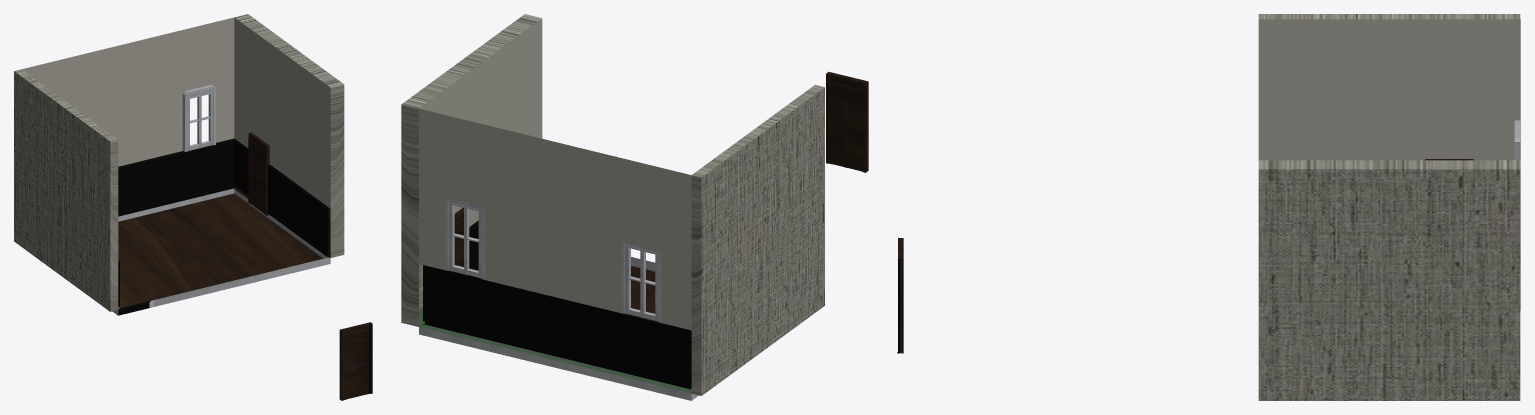
The model's file is CASA-MENU.glb.
3 views of the same model, side by side, from view 1: azimuth 30°, elevation 25°; view 2: azimuth 150°, elevation 25°; view 3: azimuth 270°, elevation 25° (orthographic). The views are drawn at different scales.
Visible parts, largest first — view 1: Cube, Cube.001, janela, Cube.003; view 2: Cube, Cube.001, janela, janela.001, Cube.003; view 3: Cube, Cube.001.
Boxes of the visible parts, x1,y1,x2,y2 form: Cube: (14, 14, 344, 315); Cube.001: (339, 322, 372, 400); janela: (182, 84, 215, 151); Cube.003: (248, 132, 269, 215); Cube: (401, 14, 824, 400); Cube.001: (826, 71, 868, 172); janela: (445, 198, 485, 279); janela.001: (621, 242, 661, 322); Cube.003: (448, 207, 467, 275); Cube: (1258, 14, 1520, 400); Cube.001: (897, 238, 903, 353).
Bounding box in the file's own units: 23.87 × 18.17 × 40.47.
6 materials, 5 textured.
